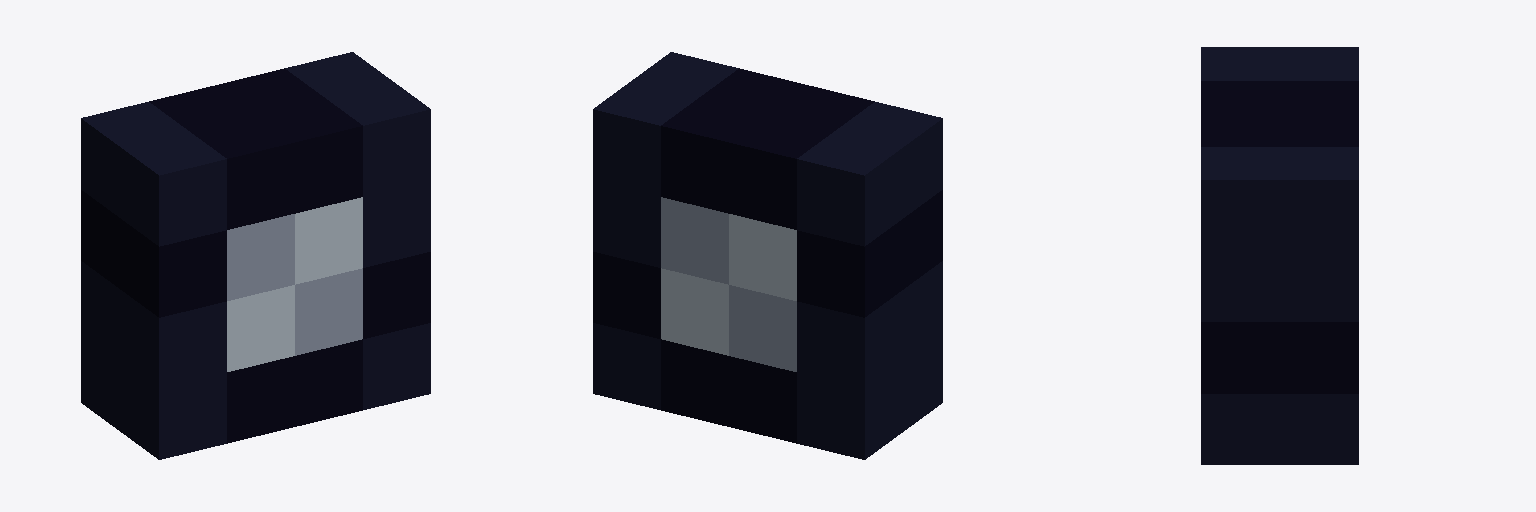
3 renders of one model, left to right at view 1: azimuth 30°, elevation 25°; view 2: azimuth 150°, elevation 25°; view 3: azimuth 270°, elevation 25°, orthographic.
Visible parts, largest first — view 1: cube; view 2: cube; view 3: cube.
Part boxes in pixels (left/top/right/bottom): cube: left=81, top=52, right=430, bottom=459; cube: left=593, top=52, right=942, bottom=459; cube: left=1201, top=47, right=1358, bottom=464.
Bounding box in the file's own units: 0.125 × 0.125 × 0.0625.
1 materials, 1 textured.